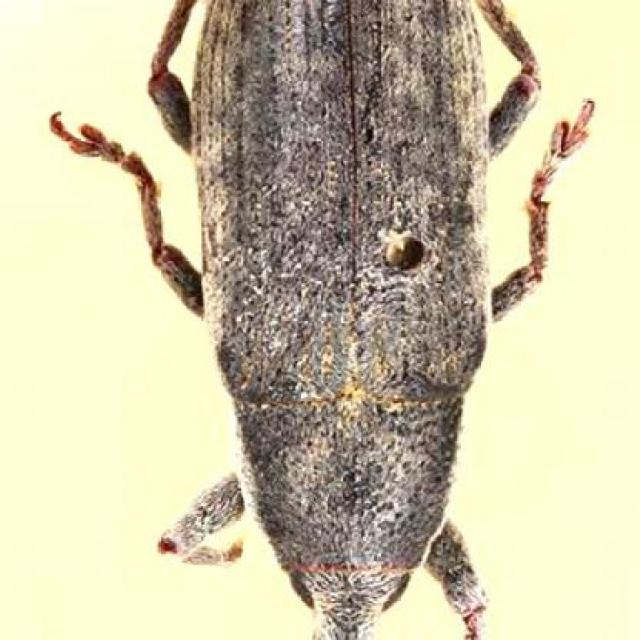rice-bug: (148, 0, 542, 640)
